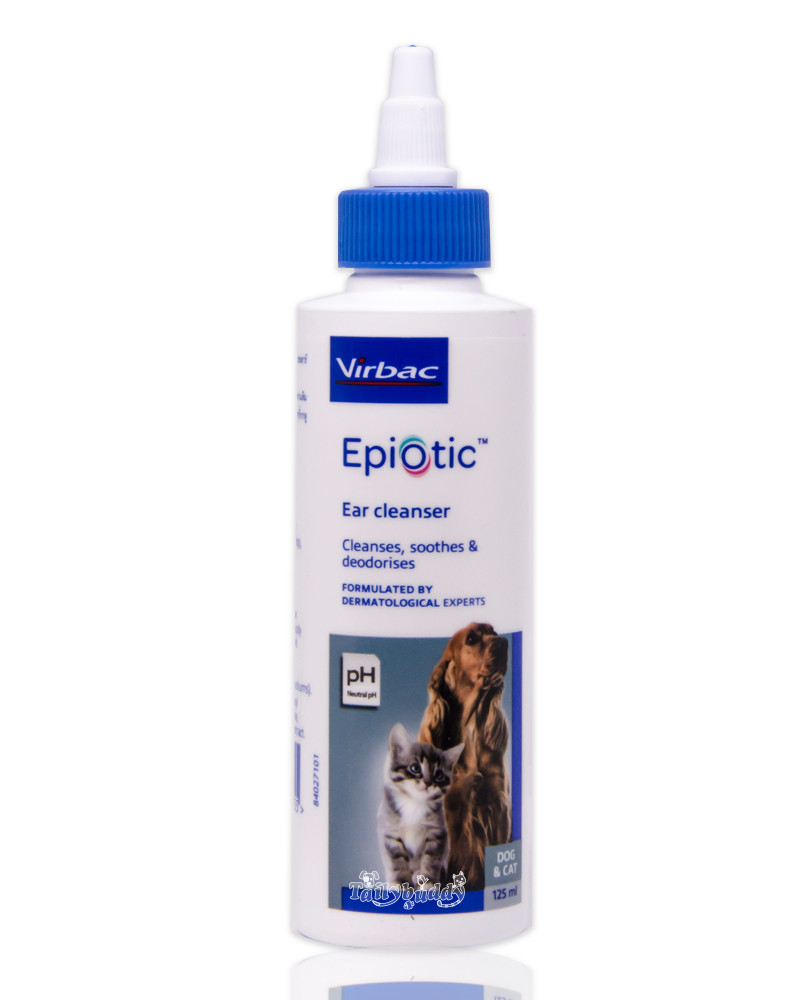Cleaning_solution: (279, 29, 544, 960)
